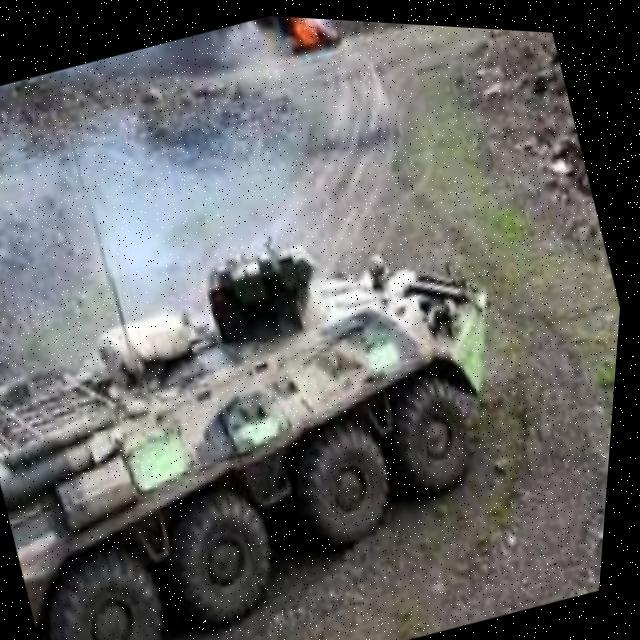MIL_APC: (0, 179, 589, 640)
